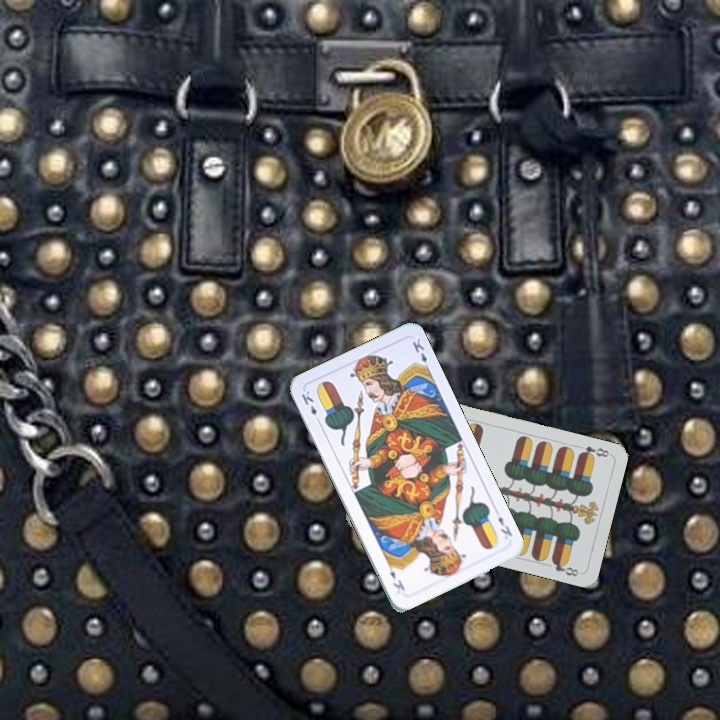E8: (575, 442, 612, 461)
EK: (297, 386, 323, 426), (494, 512, 515, 539)
